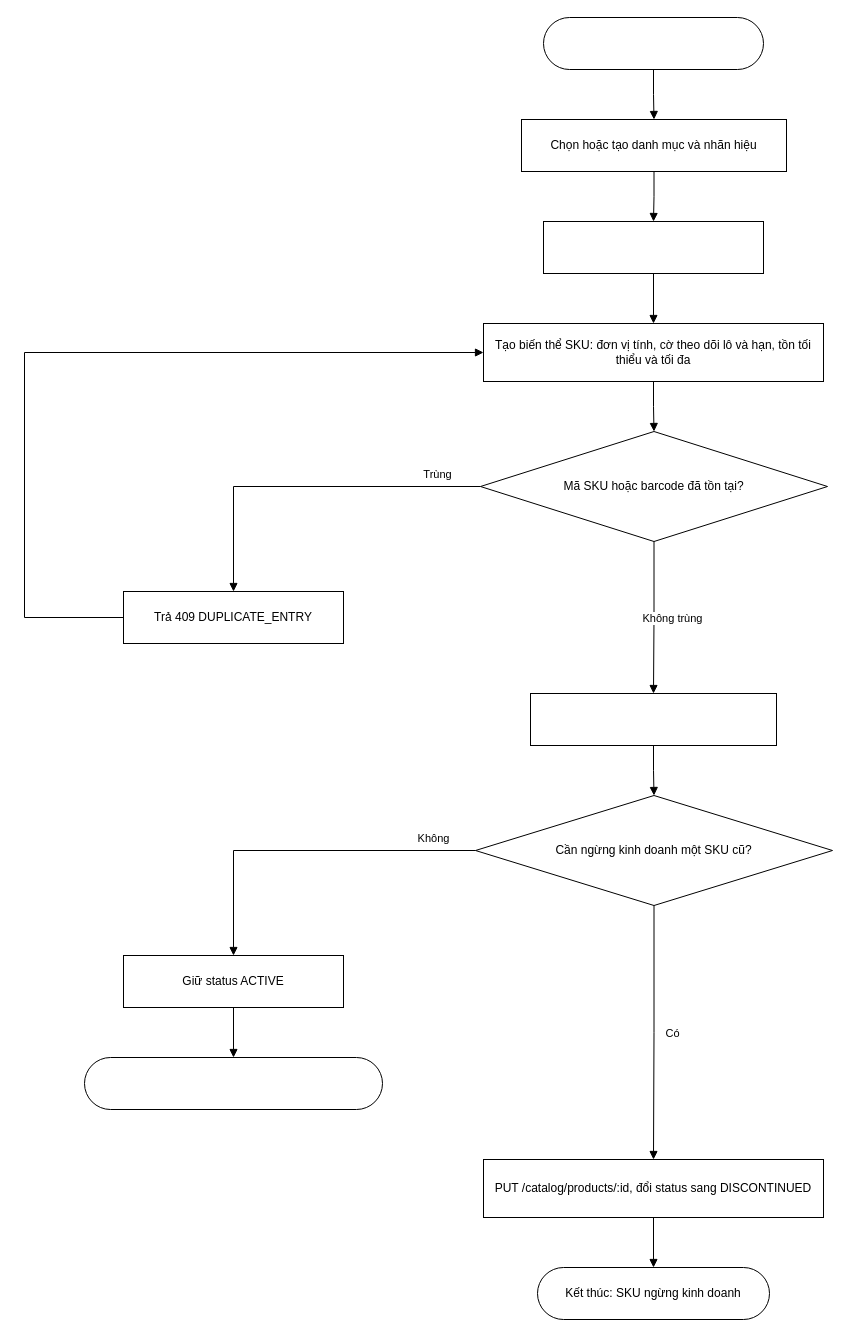
Image size: 850x1337. Some labels were removed from this diagram. Each missing label, with the centre of its shape:
Bắt đầu: (653,43)
Kết thúc: SKU sẵn sàng cho nghiệp vụ kho: (233,1083)
Lưu products và product_variants: (653,719)
Nhập thông tin sản phẩm: (653,247)
